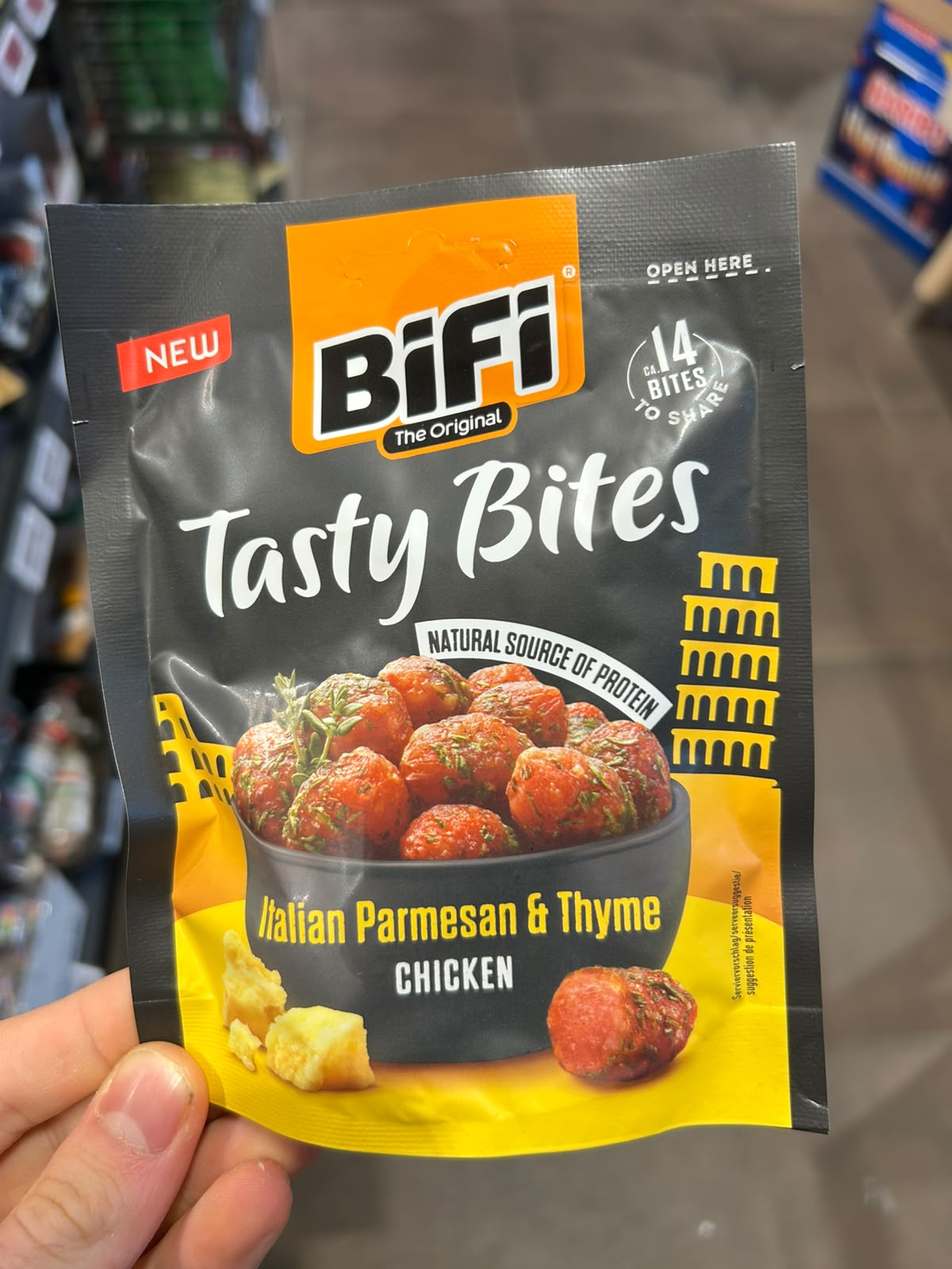bag: (36, 136, 855, 1162)
